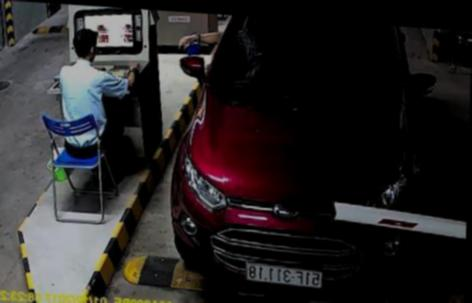License_Plate: (242, 258, 321, 288)
